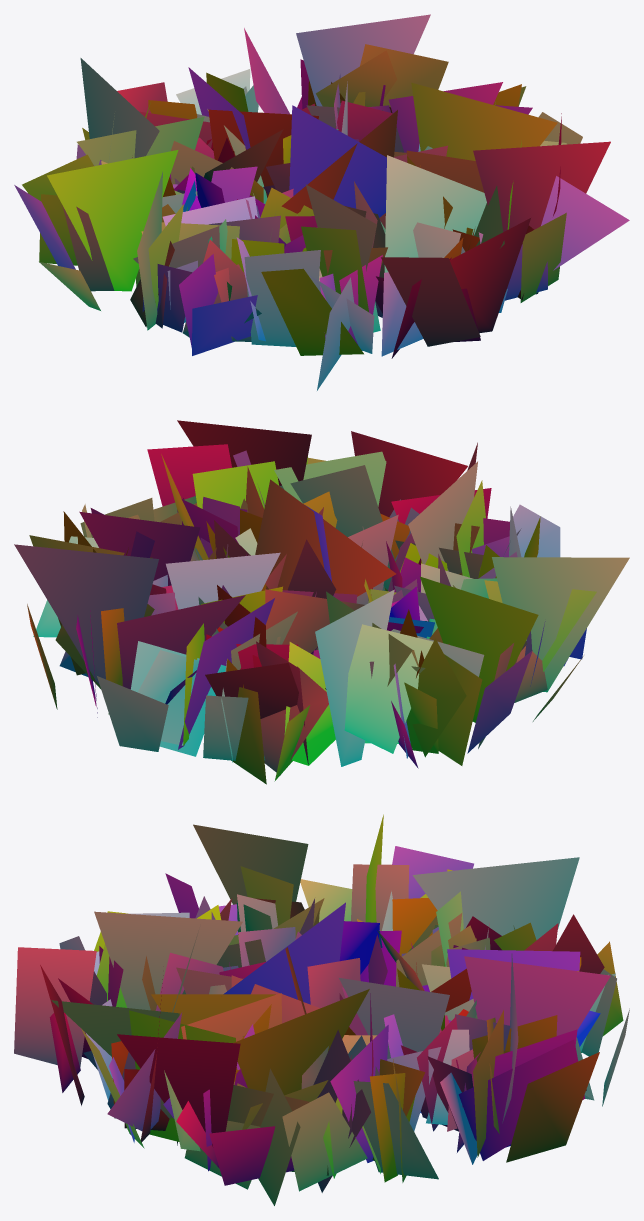
The model's file is Grass_Clumps_rbojr_Mid_rbojr_VarA_LOD1.fbx.
3 views of the same model, one above another, from view 1: azimuth 30°, elevation 25°; view 2: azimuth 150°, elevation 25°; view 3: azimuth 270°, elevation 25° (orthographic). The views are drawn at different scales.
Visible parts, largest first — view 1: _518a_VarA_LOD2; view 2: _518a_VarA_LOD2; view 3: _518a_VarA_LOD2.
Boxes of the visible parts, x1,y1,x2,y2 form: _518a_VarA_LOD2: (14, 14, 629, 390); _518a_VarA_LOD2: (14, 420, 629, 784); _518a_VarA_LOD2: (14, 814, 629, 1205).
Bounding box in the file's own units: 85.45 × 28.51 × 85.46.
